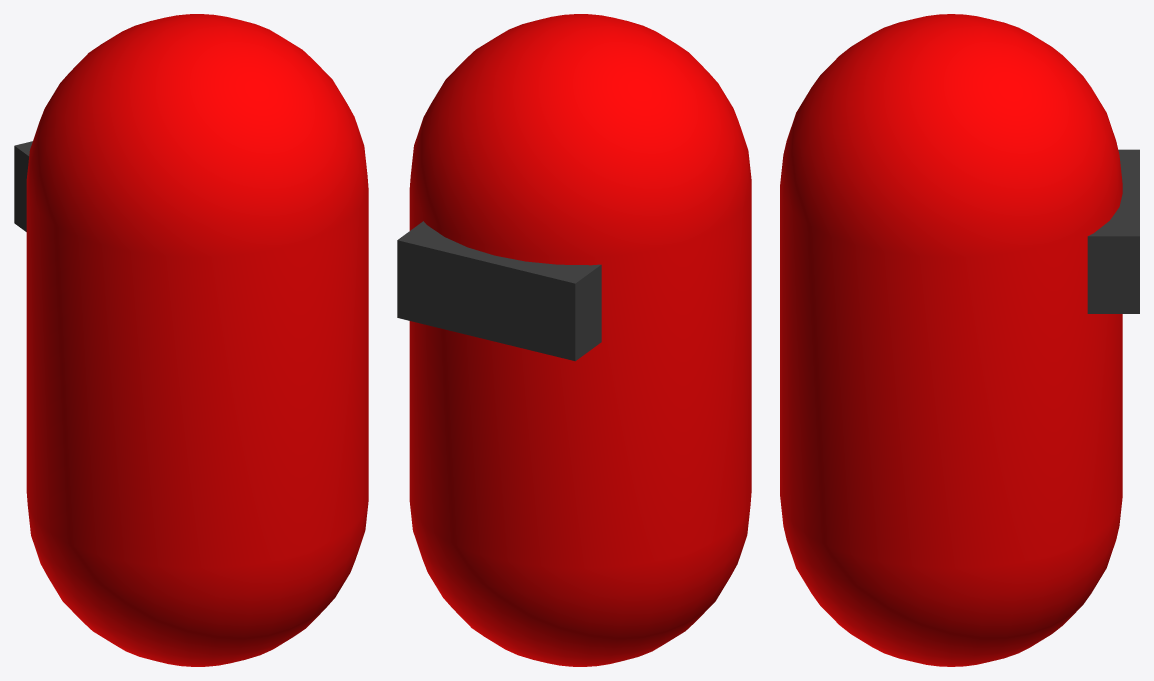
The picture shows the model from 3 angles, left to right: view 1: azimuth 30°, elevation 25°; view 2: azimuth 150°, elevation 25°; view 3: azimuth 270°, elevation 25°; orthographic projection.
Visible parts, largest first — view 1: Sphere, Cube; view 2: Sphere, Cube; view 3: Sphere, Cube.
Part boxes in pixels (box(x1,y1,x2,y2)): Sphere: box(26, 14, 368, 666); Cube: box(14, 141, 32, 231); Sphere: box(409, 14, 751, 666); Cube: box(397, 221, 601, 361); Sphere: box(780, 14, 1122, 666); Cube: box(1087, 149, 1139, 313).
Size of the model in its own units: 1 by 2 by 1.05.
